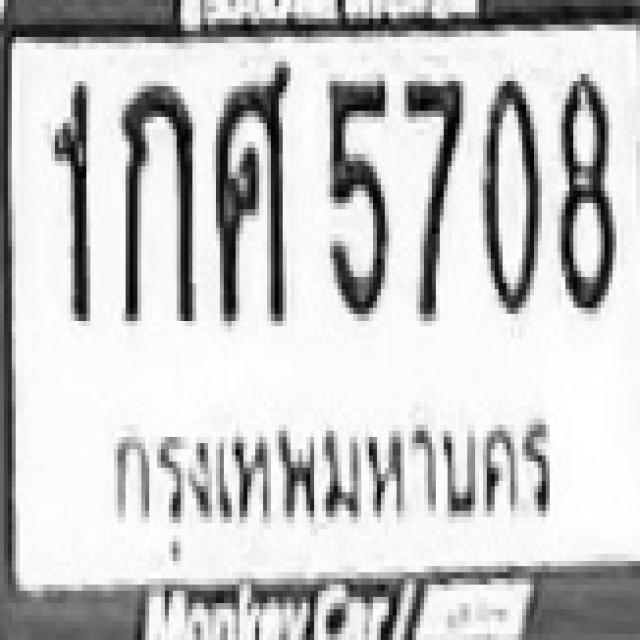0: (479, 74, 538, 314)
1: (49, 80, 88, 320)
10GorGai: (118, 80, 192, 320)
47SorSala: (212, 55, 287, 320)
5: (326, 74, 389, 314)
7: (402, 74, 462, 320)
8: (556, 68, 614, 308)
Bangkok: (95, 402, 558, 561)
